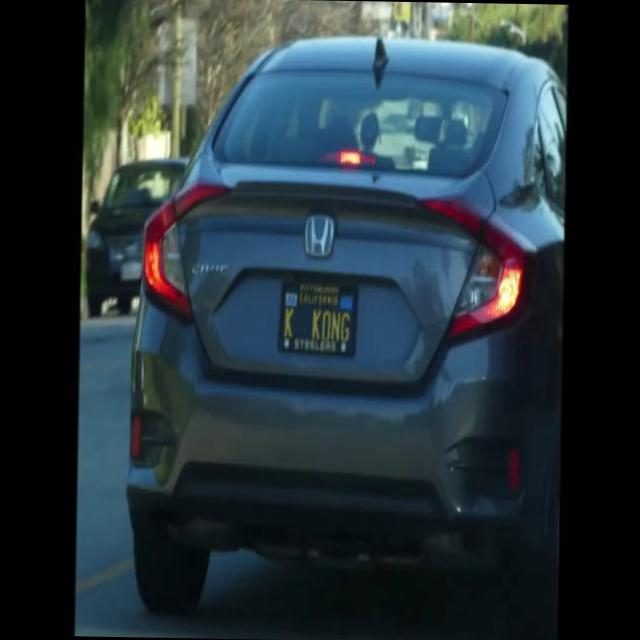LicensePlate: (276, 271, 358, 361)
